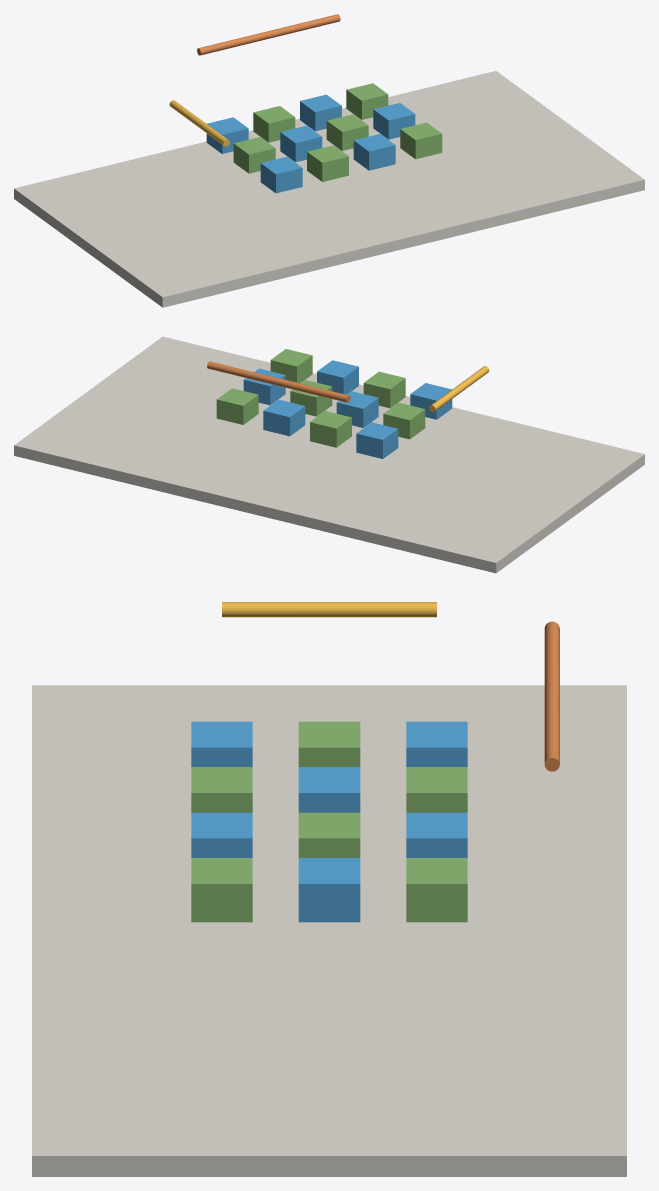
File: math-number-multiplication.glb
3 renders of one model, top to bottom at view 1: azimuth 30°, elevation 25°; view 2: azimuth 150°, elevation 25°; view 3: azimuth 270°, elevation 25°, orthographic. The views are drawn at different scales.
Visible parts, largest first — view 1: number-sense-base, array-row-3-column-3, array-row-3-column-4, array-row-3-column-1, array-row-3-column-2, column-brace-four-in-each-group, array-row-2-column-1, array-row-2-column-3, array-row-1-column-4, array-row-2-column-4, array-row-1-column-2, array-row-2-column-2 (+3 smaller); view 2: number-sense-base, array-row-1-column-4, array-row-1-column-3, array-row-1-column-1, array-row-1-column-2, column-brace-four-in-each-group, array-row-3-column-2, array-row-2-column-1, array-row-3-column-4, array-row-2-column-2, array-row-3-column-3, array-row-3-column-1 (+3 smaller); view 3: number-sense-base, array-row-2-column-4, array-row-1-column-4, array-row-3-column-4, row-brace-three-groups, array-row-2-column-2, array-row-2-column-1, array-row-2-column-3, array-row-1-column-1, array-row-1-column-2, array-row-1-column-3, array-row-3-column-1 (+3 smaller).
Boxes of the visible parts, x1,y1,x2,y2 form: number-sense-base: [14, 71, 644, 307]; array-row-3-column-3: [353, 134, 395, 170]; array-row-3-column-4: [400, 122, 442, 159]; array-row-3-column-1: [260, 156, 302, 193]; array-row-3-column-2: [307, 145, 348, 181]; column-brace-four-in-each-group: [197, 14, 340, 55]; array-row-2-column-1: [233, 137, 275, 173]; array-row-2-column-3: [326, 114, 368, 150]; array-row-1-column-4: [346, 83, 388, 119]; array-row-2-column-4: [373, 103, 415, 139]; array-row-1-column-2: [253, 106, 295, 142]; array-row-2-column-2: [280, 125, 322, 162]; number-sense-base: [14, 336, 644, 573]; array-row-1-column-4: [216, 388, 258, 424]; array-row-1-column-3: [263, 399, 305, 436]; array-row-1-column-1: [356, 422, 398, 458]; array-row-1-column-2: [310, 411, 351, 447]; column-brace-four-in-each-group: [207, 361, 350, 402]; array-row-3-column-2: [363, 371, 405, 408]; array-row-2-column-1: [383, 402, 425, 439]; array-row-3-column-4: [270, 349, 312, 383]; array-row-2-column-2: [336, 391, 378, 427]; array-row-3-column-3: [317, 360, 358, 394]; array-row-3-column-1: [410, 383, 452, 419]; number-sense-base: [32, 685, 626, 1176]; array-row-2-column-4: [298, 858, 360, 922]; array-row-1-column-4: [406, 858, 467, 922]; array-row-3-column-4: [191, 858, 252, 922]; row-brace-three-groups: [222, 602, 436, 617]; array-row-2-column-2: [298, 767, 360, 812]; array-row-2-column-1: [298, 721, 360, 766]; array-row-2-column-3: [298, 812, 360, 857]; array-row-1-column-1: [406, 721, 467, 766]; array-row-1-column-2: [406, 767, 467, 812]; array-row-1-column-3: [406, 812, 467, 857]; array-row-3-column-1: [191, 721, 252, 766].
Size of what is drawn, in the model's own units: 2.9 by 0.7095 by 1.55.
